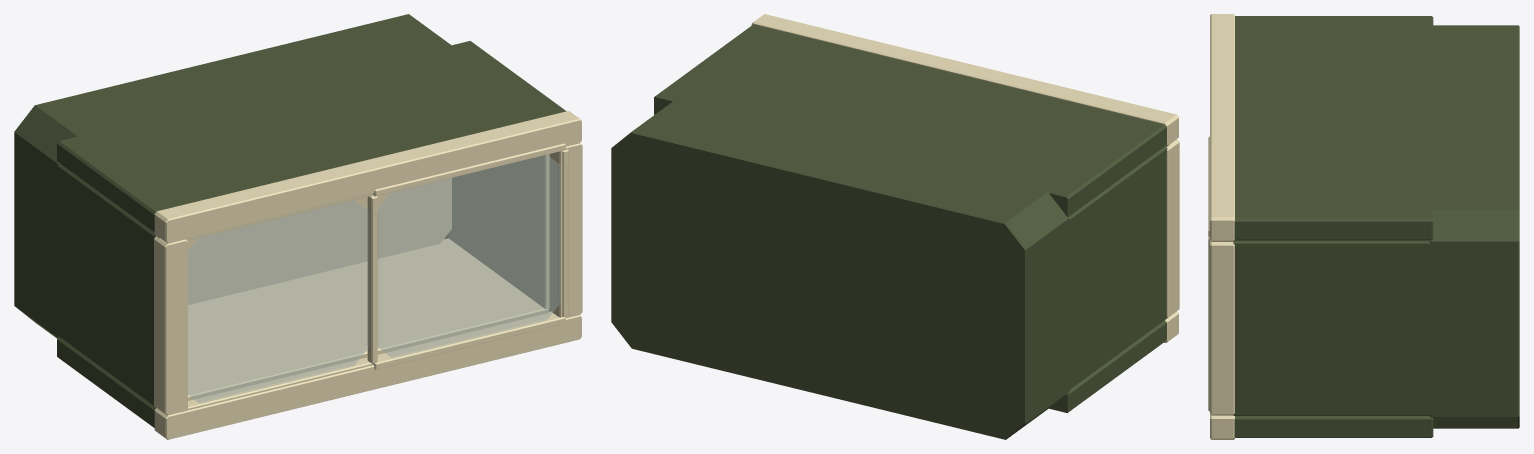
Rendered from fixture_08_glass_top_freezer.glb.
The picture shows the model from 3 angles, left to right: view 1: azimuth 30°, elevation 25°; view 2: azimuth 150°, elevation 25°; view 3: azimuth 270°, elevation 25°; orthographic projection.
Visible parts, largest first — view 1: fixture_08_glass_top_freezer; view 2: fixture_08_glass_top_freezer; view 3: fixture_08_glass_top_freezer.
Boxes of the visible parts, left/top/right/bottom form: fixture_08_glass_top_freezer: left=14, top=14, right=582, bottom=439; fixture_08_glass_top_freezer: left=611, top=14, right=1179, bottom=439; fixture_08_glass_top_freezer: left=1208, top=14, right=1519, bottom=439.
Size of what is drawn, in the model's own units: 1.41 by 0.7185 by 0.9.
